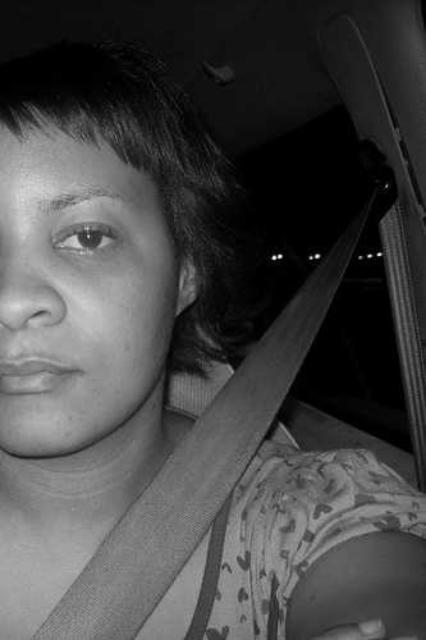SafeDriving: (37, 200, 137, 266)
Seatbelt: (23, 164, 398, 640)
